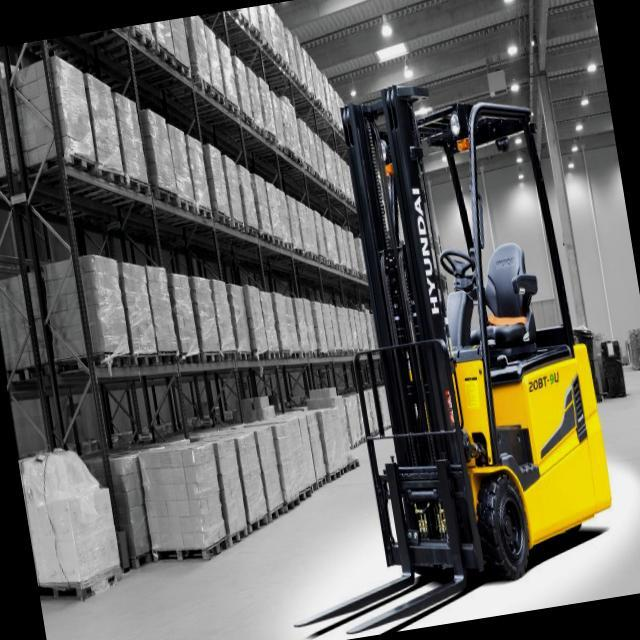forklift: (320, 40, 618, 614)
